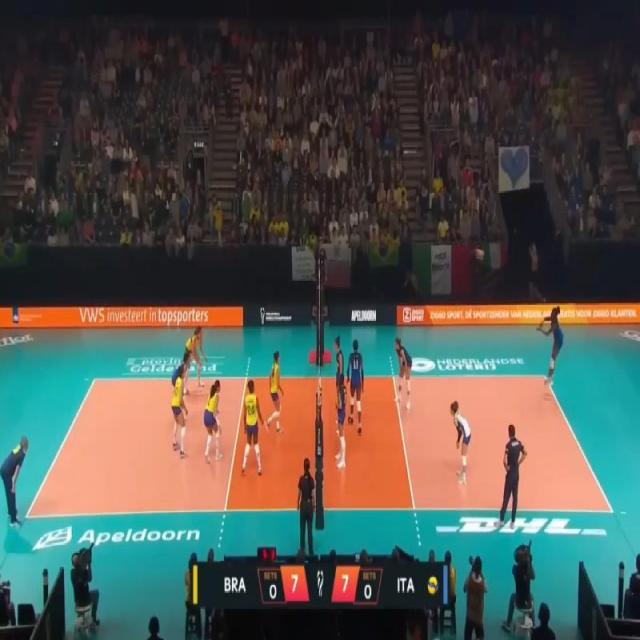volleyball: (474, 246, 486, 262)
